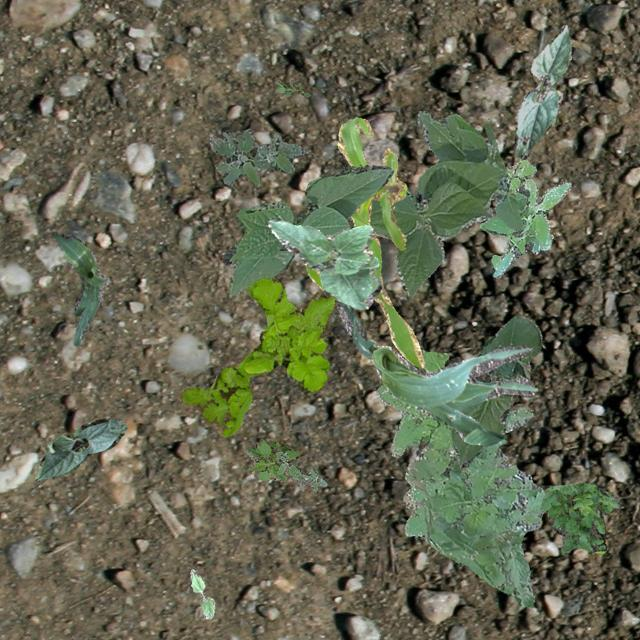crop: (304, 115, 424, 368), (336, 299, 536, 445), (368, 110, 522, 296), (222, 164, 392, 296), (450, 314, 540, 468), (266, 218, 381, 308), (514, 23, 572, 158), (51, 230, 108, 344), (34, 418, 126, 480), (188, 568, 214, 618)
weed: (376, 348, 544, 606), (178, 278, 336, 436), (478, 158, 570, 278), (540, 482, 620, 552), (208, 128, 304, 186), (246, 438, 298, 482), (274, 450, 326, 490), (274, 78, 308, 96)
